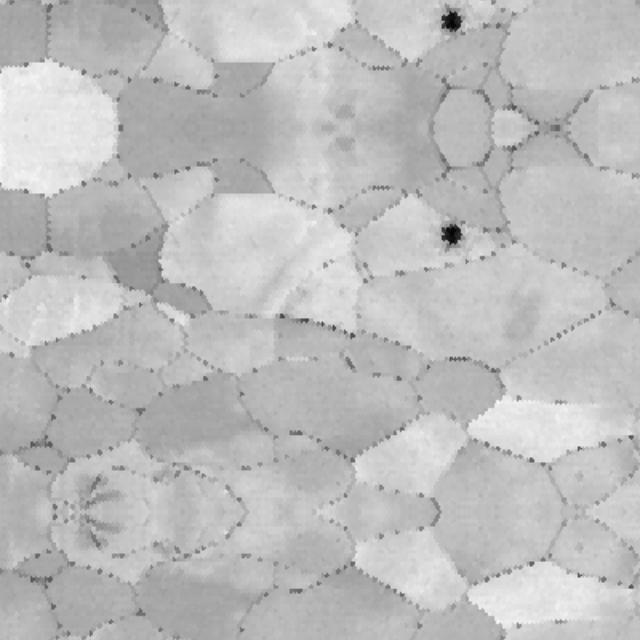good_void: (431, 213, 474, 266), (431, 0, 474, 43), (320, 255, 337, 272)
